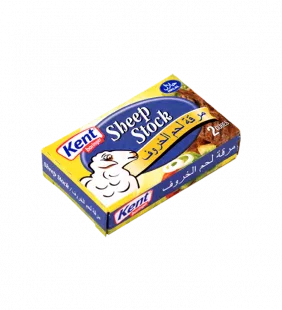KENT: (36, 67, 251, 244)
